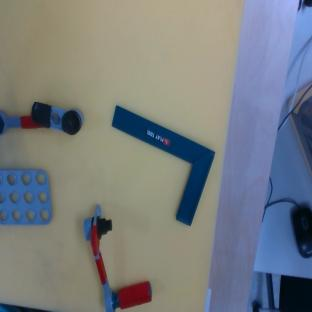non_pass: (0, 102, 83, 135)
pass: (78, 198, 155, 312)
